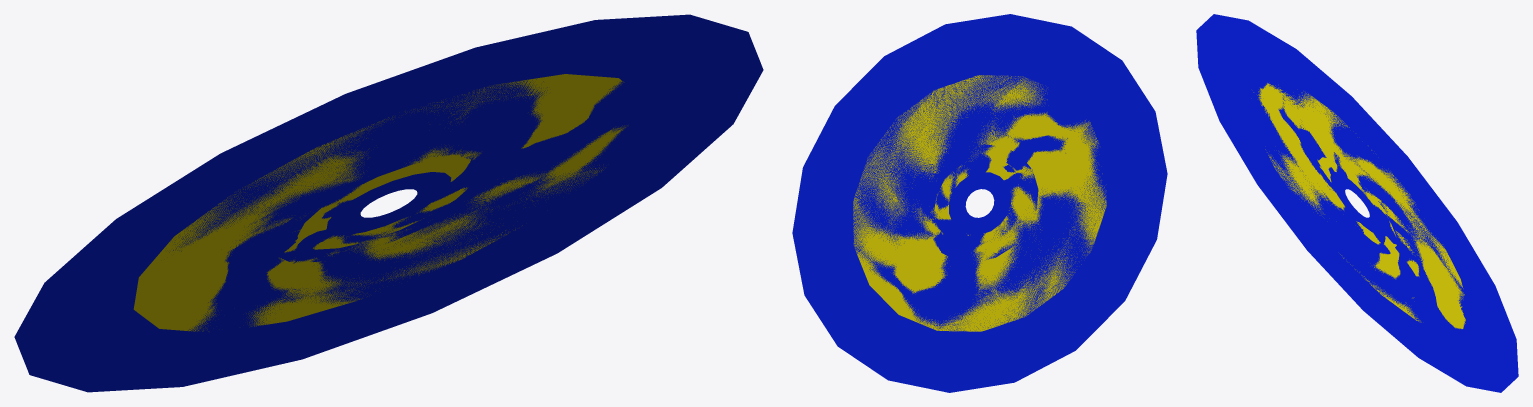
The model's file is pref_fx_evolution_lv3.fbx.
3 views of the same model, side by side, from view 1: azimuth 30°, elevation 25°; view 2: azimuth 150°, elevation 25°; view 3: azimuth 270°, elevation 25° (orthographic). The views are drawn at different scales.
Visible parts, largest first — view 1: sm_noise; view 2: sm_noise; view 3: sm_noise.
Boxes of the visible parts, bbox=[...] form: sm_noise: bbox=[14, 14, 763, 392]; sm_noise: bbox=[792, 14, 1167, 392]; sm_noise: bbox=[1196, 14, 1518, 392].
Bounding box in the file's own units: 9.98 × 7.29 × 6.69.
